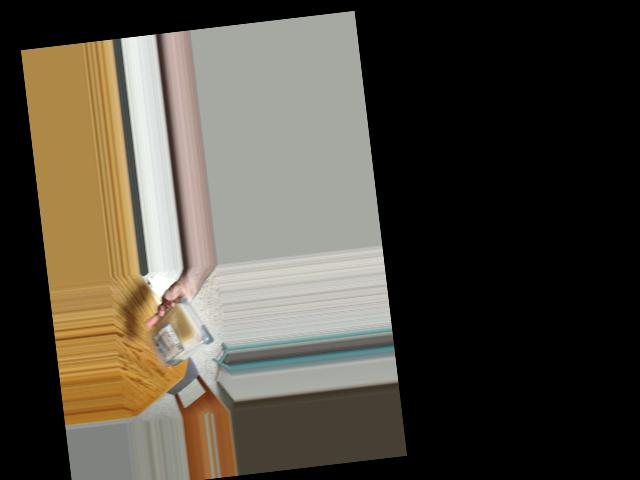cheese: (148, 301, 204, 366)
